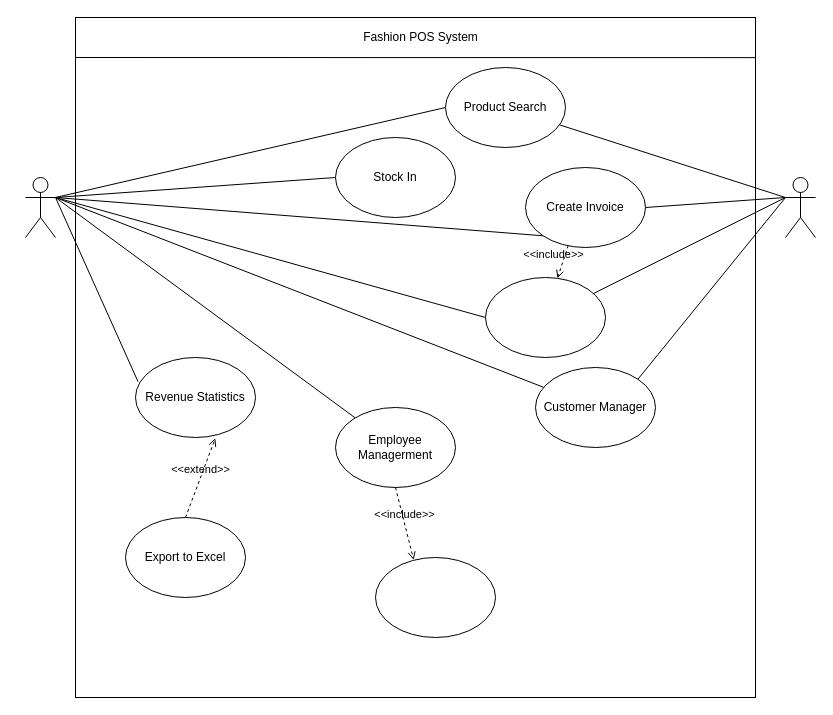
Some shapes in this 833 by 715 pixel diagram are drawn without their labels. The centre of each missing label's shape, as x and y in pixels:
Add / Edit / Delete: (x=435, y=597)
Login: (x=545, y=317)
Manager: (x=40, y=207)
Staff: (x=800, y=207)
